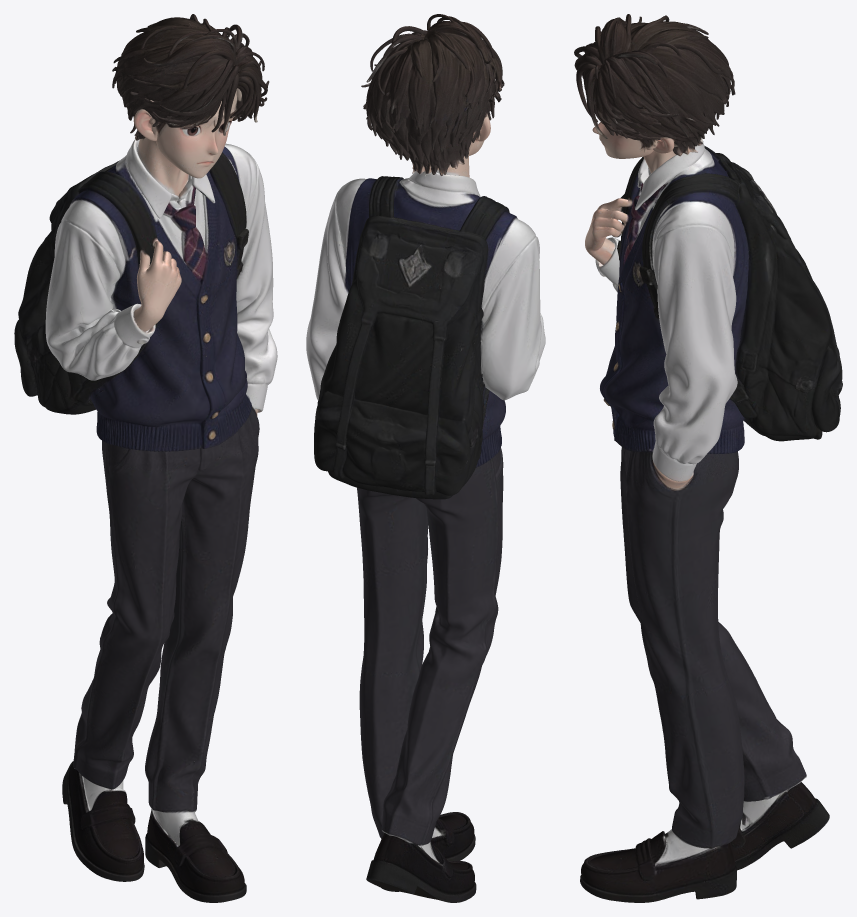
File: male_neutral.glb
3 views of the same model, side by side, from view 1: azimuth 30°, elevation 25°; view 2: azimuth 150°, elevation 25°; view 3: azimuth 270°, elevation 25° (orthographic). The views are drawn at different scales.
Size of the model in its own units: 0.5192 by 1.91 by 0.5355.
Materials: 1 (1 with a texture image).
